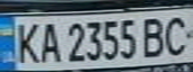2: (63, 19, 87, 63)
3: (81, 18, 106, 62)
5: (118, 16, 142, 61), (100, 17, 121, 61)
A: (36, 19, 63, 64)
B: (139, 15, 172, 58)
C: (160, 12, 193, 57)
K: (9, 18, 42, 64)
